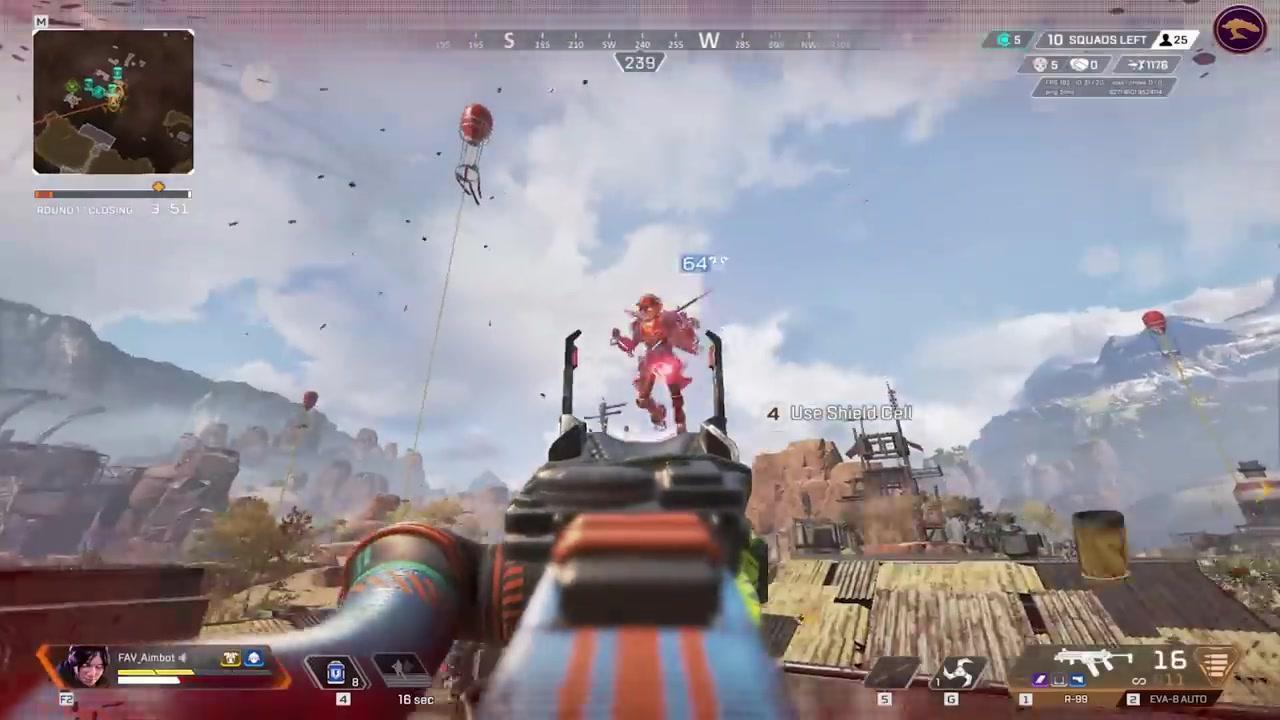avatar: (609, 290, 703, 437)
